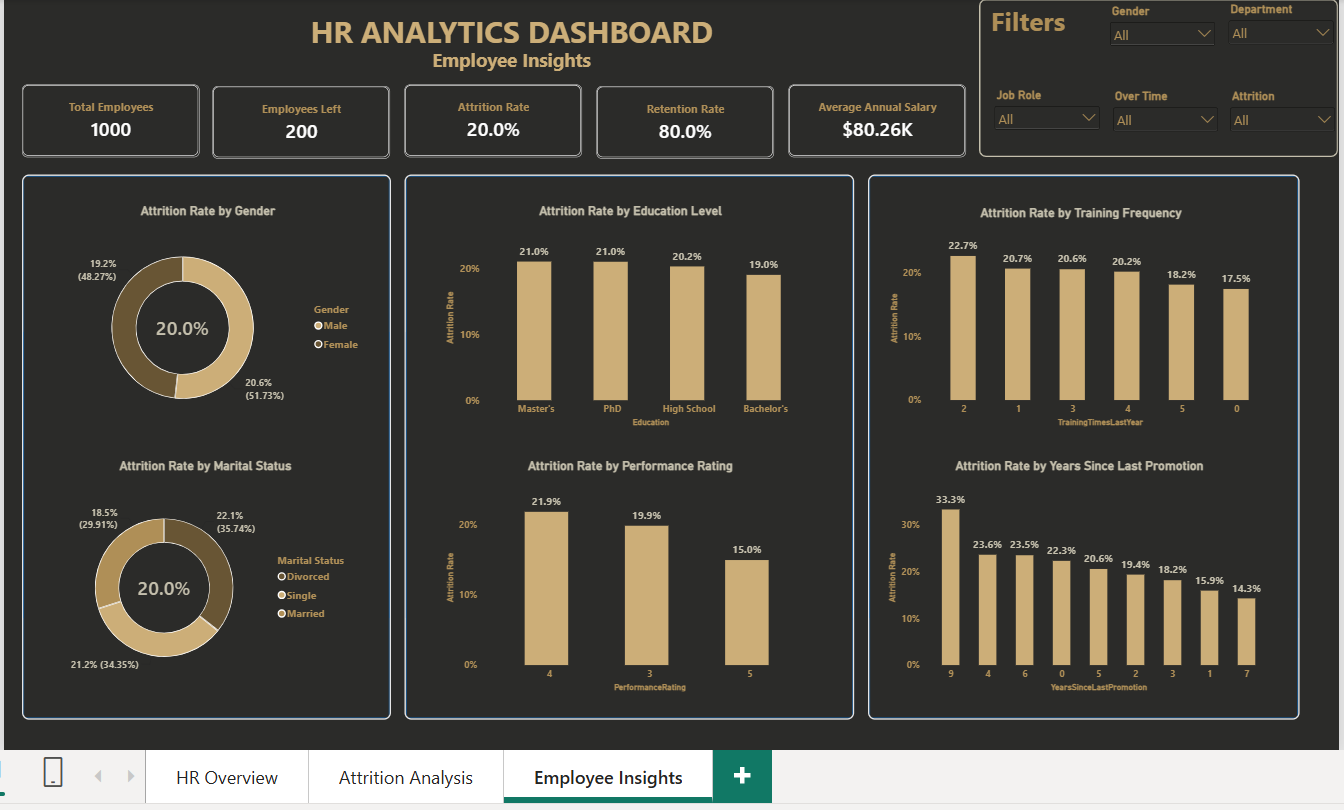

Layout of this report page (visuals, bound fields, positions):
{"tool":"powerbi","page":{"name":"Employee Insights","canvas":[1920,1080],"ordinal":2},"visuals":[{"type":"shape","box":[1243.4,253.4,620.5,784],"z":0},{"type":"shape","box":[575.5,253.4,646.6,784],"z":1000},{"type":"shape","box":[26.1,253.4,530.5,784],"z":2000},{"type":"shape","box":[1402.1,0,516.3,227.4],"z":3000},{"type":"cardVisual","fields":{"Data":["HR Measures.Total Employees"]},"box":[26,124,255,104.5],"z":4000},{"type":"cardVisual","fields":{"Data":["HR Measures.Attrition Rate"]},"box":[575.5,124,255,104.5],"z":5000},{"type":"cardVisual","fields":{"Data":["HR Measures.Retention Rate"]},"box":[852.6,125.5,255,104.5],"z":6000},{"type":"cardVisual","fields":{"Data":["HR Measures.Average Annual Salary"]},"box":[1127.4,123.2,255,104.5],"z":7000},{"type":"cardVisual","fields":{"Data":["HR Measures.Employees Left"]},"box":[300.8,125.5,255,104.5],"z":8000},{"type":"slicer","fields":{"Values":["Employee_Data.Gender"]},"box":[1584.5,7.1,161.1,95],"z":9000},{"type":"slicer","fields":{"Values":["Employee_Data.JobRole"]},"box":[1418.7,127.5,161.1,95],"z":10000},{"type":"slicer","fields":{"Values":["Employee_Data.Attrition"]},"box":[1757.4,130.4,161.1,95],"z":11000},{"type":"slicer","fields":{"Values":["Employee_Data.OverTime"]},"box":[1589.2,130.4,161.1,95],"z":12000},{"type":"slicer","fields":{"Values":["Employee_Data.Department"]},"box":[1755,4.7,161.1,95],"z":13000},{"type":"textbox","box":[156.7,6.8,1144.7,102.2],"z":14000},{"type":"textbox","box":[1418.7,7.1,142.1,68.7],"z":15000},{"type":"donutChart","title":"Attrition Rate by Gender","fields":{"Category":["Employee_Data.Gender"],"Y":["HR Measures.Attrition Rate"]},"box":[52.1,279.5,483.2,350.5],"z":16000},{"type":"donutChart","title":"Attrition Rate by Marital Status","fields":{"Category":["Employee_Data.MaritalStatus"],"Y":["HR Measures.Attrition Rate"]},"box":[52.1,646.6,476.1,364.7],"z":17000},{"type":"columnChart","title":"Attrition Rate by Education Level","fields":{"Category":["Employee_Data.Education"],"Y":["HR Measures.Attrition Rate"]},"box":[618.2,279.5,563.7,350.5],"z":18000},{"type":"columnChart","title":"Attrition Rate by Performance Rating","fields":{"Category":["Employee_Data.PerformanceRating"],"Y":["HR Measures.Attrition Rate"]},"box":[618.2,646.6,563.7,364.7],"z":19000},{"type":"columnChart","title":"Attrition Rate by Training Frequency","fields":{"Category":["Employee_Data.TrainingTimesLastYear"],"Y":["HR Measures.Attrition Rate"]},"box":[1257.6,281.8,582.6,348.2],"z":20000},{"type":"columnChart","title":"Attrition Rate by Years Since Last Promotion","fields":{"Category":["Employee_Data.YearsSinceLastPromotion"],"Y":["HR Measures.Attrition Rate"]},"box":[1255.3,646.6,582.6,364.7],"z":21000}]}

Visuals, with their boxes on the page's 1920x1080 design canvas (x1, y1, x2, y2). These are canvas units, not pixel positions in the 1344x810 screenshot, which may show the page scaled, cropped or inside an application window:
shape: x1=1243 y1=253 x2=1864 y2=1037
shape: x1=576 y1=253 x2=1222 y2=1037
shape: x1=26 y1=253 x2=557 y2=1037
shape: x1=1402 y1=0 x2=1918 y2=227
cardVisual - HR Measures.Total Employees: x1=26 y1=124 x2=281 y2=228
cardVisual - HR Measures.Attrition Rate: x1=576 y1=124 x2=830 y2=228
cardVisual - HR Measures.Retention Rate: x1=853 y1=126 x2=1108 y2=230
cardVisual - HR Measures.Average Annual Salary: x1=1127 y1=123 x2=1382 y2=228
cardVisual - HR Measures.Employees Left: x1=301 y1=126 x2=556 y2=230
slicer - Employee_Data.Gender: x1=1584 y1=7 x2=1746 y2=102
slicer - Employee_Data.JobRole: x1=1419 y1=128 x2=1580 y2=222
slicer - Employee_Data.Attrition: x1=1757 y1=130 x2=1918 y2=225
slicer - Employee_Data.OverTime: x1=1589 y1=130 x2=1750 y2=225
slicer - Employee_Data.Department: x1=1755 y1=5 x2=1916 y2=100
textbox: x1=157 y1=7 x2=1301 y2=109
textbox: x1=1419 y1=7 x2=1561 y2=76
"Attrition Rate by Gender" donutChart: x1=52 y1=280 x2=535 y2=630
"Attrition Rate by Marital Status" donutChart: x1=52 y1=647 x2=528 y2=1011
"Attrition Rate by Education Level" columnChart: x1=618 y1=280 x2=1182 y2=630
"Attrition Rate by Performance Rating" columnChart: x1=618 y1=647 x2=1182 y2=1011
"Attrition Rate by Training Frequency" columnChart: x1=1258 y1=282 x2=1840 y2=630
"Attrition Rate by Years Since Last Promotion" columnChart: x1=1255 y1=647 x2=1838 y2=1011
